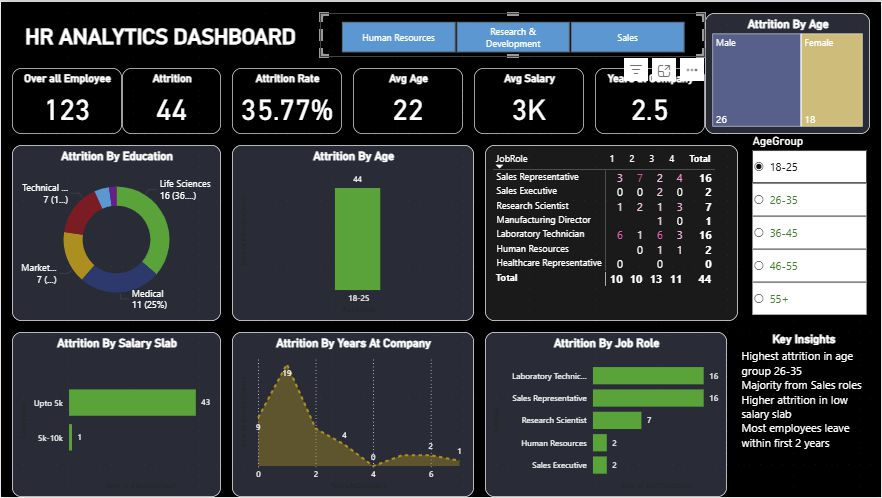

What the dashboard file says about the page in this screenshot:
{"tool":"powerbi","page":{"name":"Page 1","canvas":[1280,720],"ordinal":0},"visuals":[{"type":"card","title":"Over all Employee","fields":{"Values":["CountNonNull(HR_Analytics (1).EmpID)"]},"box":[16,96,144,96],"z":0},{"type":"card","title":"Attrition","fields":{"Values":["Sum(HR_Analytics (1).AttritionCount)"]},"box":[176,96,144,96],"z":1000},{"type":"card","title":"Attrition Rate","fields":{"Values":["HR_Analytics (1).AttritionRate"]},"box":[336,96,160,96],"z":2000},{"type":"card","title":"Avg Age","fields":{"Values":["Avg(HR_Analytics (1).Age)"]},"box":[512,96,160,96],"z":3000},{"type":"card","title":"Years at Company","fields":{"Values":["Avg(HR_Analytics (1).YearsAtCompany)"]},"box":[864,96,160,96],"z":4000},{"type":"card","title":"Avg Salary","fields":{"Values":["Avg(HR_Analytics (1).MonthlyIncome)"]},"box":[688,96,160,96],"z":5000},{"type":"donutChart","title":"Attrition By Education","fields":{"Category":["HR_Analytics (1).EducationField"],"Y":["Sum(HR_Analytics (1).AttritionCount)"]},"box":[16,208,304,256],"z":6000},{"type":"columnChart","title":"Attrition By Age","fields":{"Category":["HR_Analytics (1).AgeGroup"],"Y":["Sum(HR_Analytics (1).AttritionCount)"]},"box":[336,208,336,256],"z":7000},{"type":"pivotTable","title":"Job ","fields":{"Rows":["HR_Analytics (1).JobRole"],"Columns":["HR_Analytics (1).JobSatisfaction"],"Values":["Sum(HR_Analytics (1).AttritionCount)"]},"box":[688,208,368,256],"z":8000},{"type":"barChart","title":"Attrition By Salary Slab","fields":{"Category":["HR_Analytics (1).SalarySlab"],"Y":["Sum(HR_Analytics (1).AttritionCount)"]},"box":[16,480,304,240],"z":9000},{"type":"areaChart","title":"Attrition By Years At Company","fields":{"Category":["HR_Analytics (1).YearsAtCompany"],"Y":["Sum(HR_Analytics (1).AttritionCount)"]},"box":[336,480,352,240],"z":10000},{"type":"barChart","title":"Attrition By Job Role","fields":{"Y":["Sum(HR_Analytics (1).AttritionCount)"],"Category":["HR_Analytics (1).JobRole"]},"box":[704,480,352,240],"z":11000},{"type":"treemap","title":"Attrition By Age","fields":{"Group":["HR_Analytics (1).Gender"],"Values":["Sum(HR_Analytics (1).AttritionCount)"]},"box":[1024,16,240,176],"z":12000},{"type":"slicer","fields":{"Values":["HR_Analytics (1).Department"]},"box":[464,16,560,64],"z":13000},{"type":"textbox","title":"HR ANALYTICS DASHBOARD","box":[16,32,432,32],"z":14000},{"type":"listSlicer","fields":{"Values":["HR_Analytics (1).AgeGroup"]},"box":[1072,192,192,272],"z":15000},{"type":"textbox","title":"Key Insights","box":[1072,480,192,224],"z":16000}]}

Visuals, with their boxes in screenshot pixels (x1, y1, x2, y2), scaled from the page's 1280x720 canvas onto the 882x498 screenshot:
"Over all Employee" card: <box>11,66,110,133</box>
"Attrition" card: <box>121,66,220,133</box>
"Attrition Rate" card: <box>232,66,342,133</box>
"Avg Age" card: <box>353,66,463,133</box>
"Years at Company" card: <box>595,66,706,133</box>
"Avg Salary" card: <box>474,66,584,133</box>
"Attrition By Education" donutChart: <box>11,144,220,321</box>
"Attrition By Age" columnChart: <box>232,144,463,321</box>
"Job " pivotTable: <box>474,144,728,321</box>
"Attrition By Salary Slab" barChart: <box>11,332,220,497</box>
"Attrition By Years At Company" areaChart: <box>232,332,474,497</box>
"Attrition By Job Role" barChart: <box>485,332,728,497</box>
"Attrition By Age" treemap: <box>706,11,871,133</box>
slicer - HR_Analytics (1).Department: <box>320,11,706,55</box>
"HR ANALYTICS DASHBOARD" textbox: <box>11,22,309,44</box>
listSlicer - HR_Analytics (1).AgeGroup: <box>739,133,871,321</box>
"Key Insights" textbox: <box>739,332,871,487</box>
